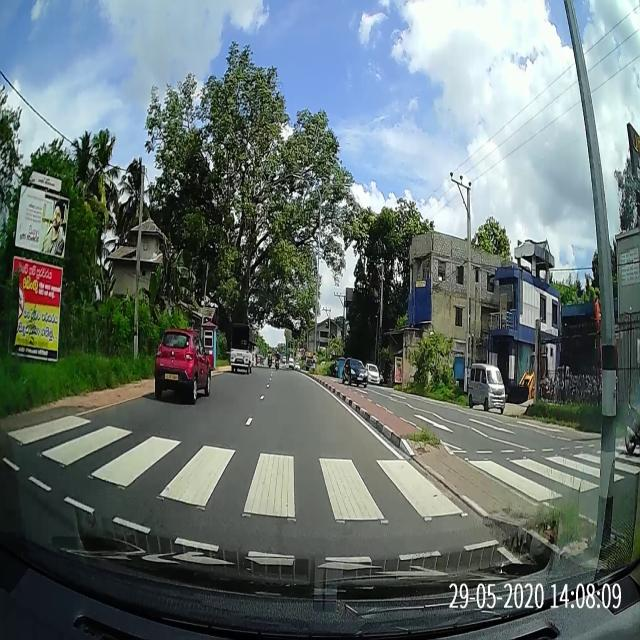Crosswalk: (2, 411, 640, 565)
